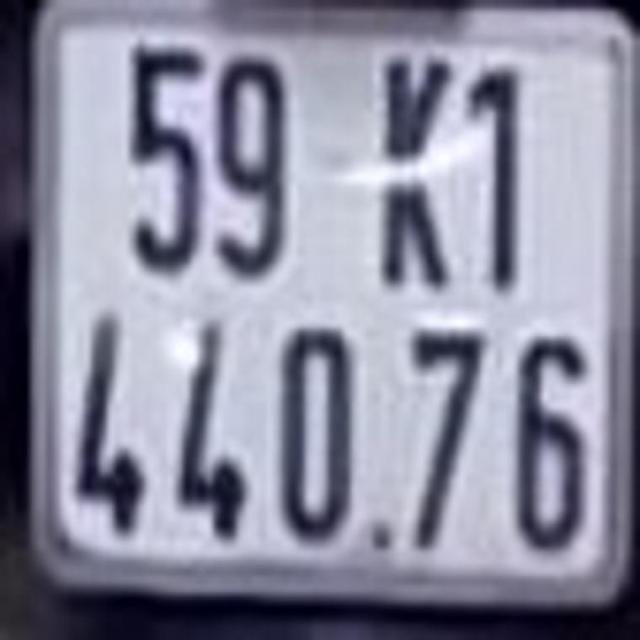0: (274, 324, 353, 543)
1: (465, 58, 523, 288)
4: (170, 314, 251, 543), (74, 307, 148, 543)
5: (124, 38, 202, 270)
6: (514, 328, 588, 548)
7: (408, 326, 484, 548)
9: (212, 52, 286, 276)
K: (374, 48, 454, 288)
